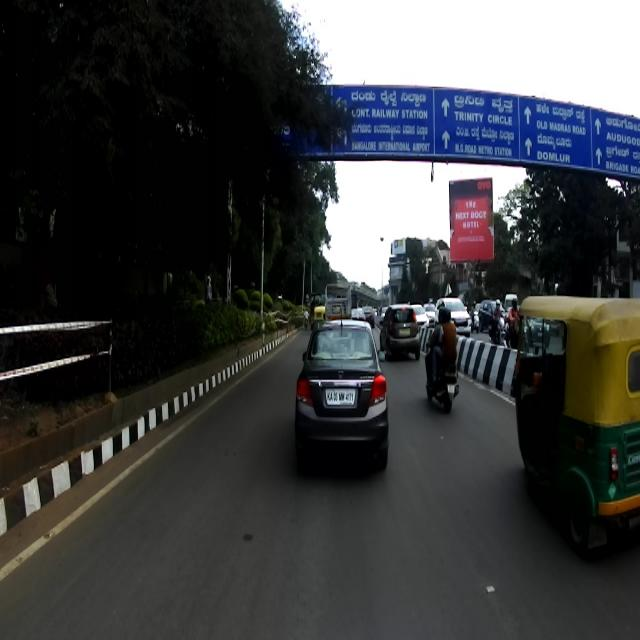Car_Honda: (294, 307, 388, 473)
Car_Maruti-Suzuki: (381, 303, 422, 367)
autorickshaw: (512, 293, 640, 560)
scooter: (425, 340, 459, 414)
